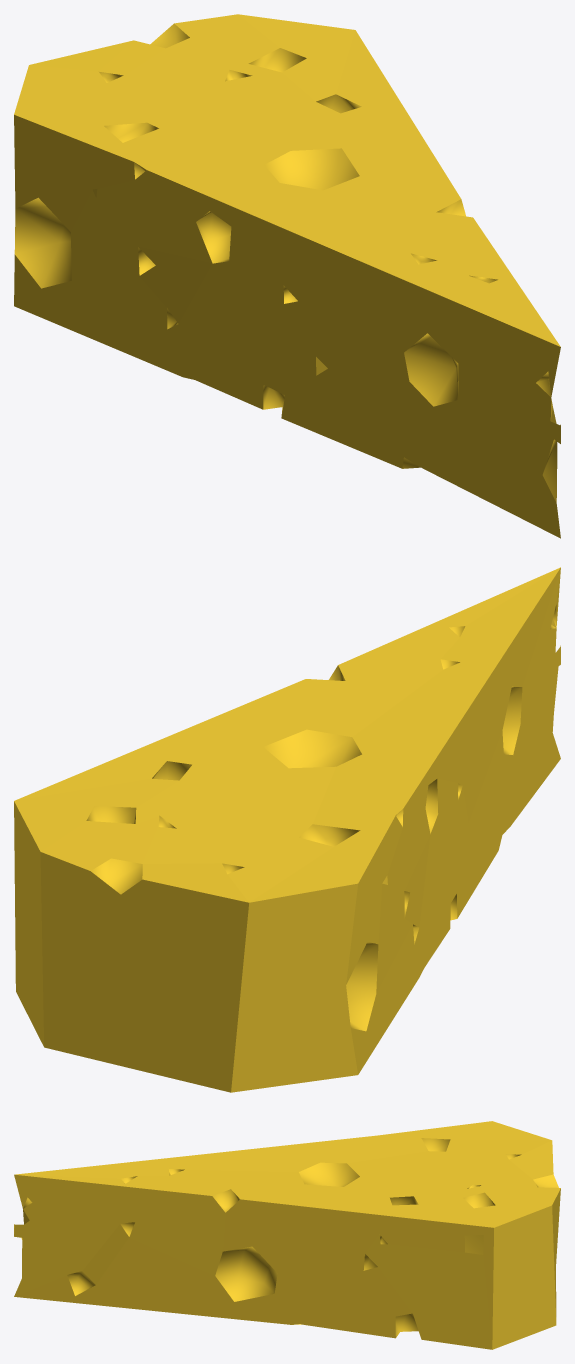
File: cheese.fbx
3 renders of one model, top to bottom at view 1: azimuth 30°, elevation 25°; view 2: azimuth 150°, elevation 25°; view 3: azimuth 270°, elevation 25°, orthographic. The views are drawn at different scales.
Parts seen in each view (by area): view 1: cheese; view 2: cheese; view 3: cheese.
Boxes of the visible parts, x1=… form: cheese: x1=14, y1=14, x2=560, y2=538; cheese: x1=14, y1=567, x2=560, y2=1092; cheese: x1=14, y1=1121, x2=560, y2=1349.
Bounding box in the file's own units: 240 × 129 × 520.
